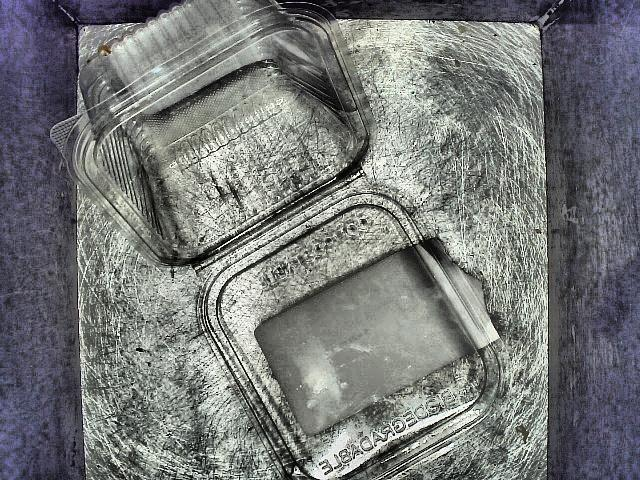Plastic: (66, 1, 508, 480)
